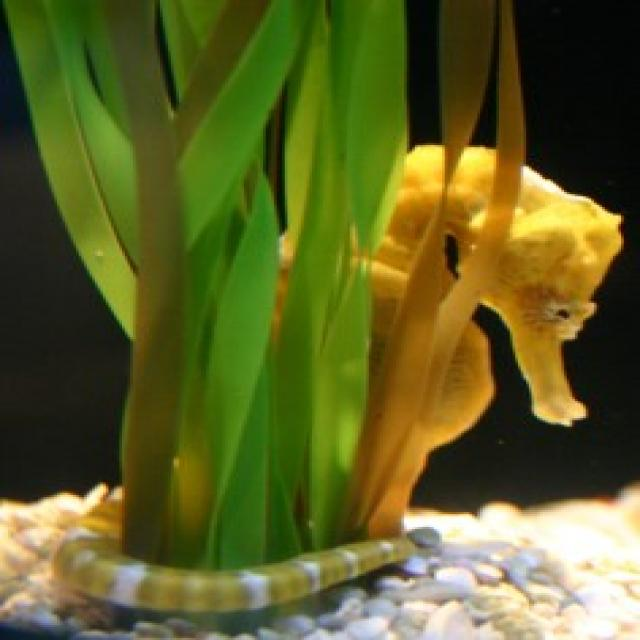Seahorse: (400, 147, 638, 510)
